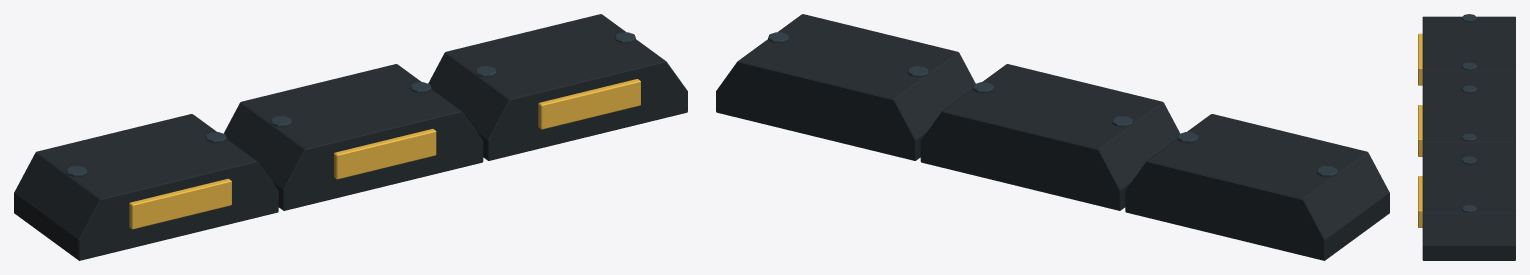
The model's file is b02_rubber_parking_curb.glb.
3 renders of one model, left to right at view 1: azimuth 30°, elevation 25°; view 2: azimuth 150°, elevation 25°; view 3: azimuth 270°, elevation 25°, orthographic. The views are drawn at different scales.
Parts seen in each view (by area): view 1: b02_rubber_parking_curb; view 2: b02_rubber_parking_curb; view 3: b02_rubber_parking_curb.
Boxes of the visible parts, <box> form: b02_rubber_parking_curb: <box>14,14,687,260</box>; b02_rubber_parking_curb: <box>716,14,1389,260</box>; b02_rubber_parking_curb: <box>1418,14,1515,260</box>.
Bounding box in the file's own units: 1.4 × 0.132 × 0.273.
